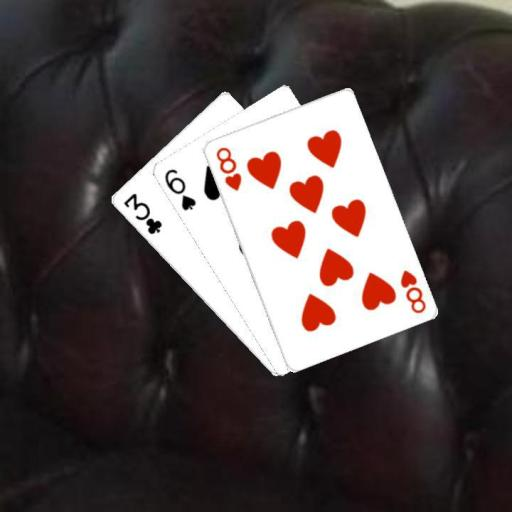3C: (120, 190, 164, 236)
6S: (161, 165, 197, 212)
8H: (212, 144, 243, 193), (396, 267, 427, 315)
